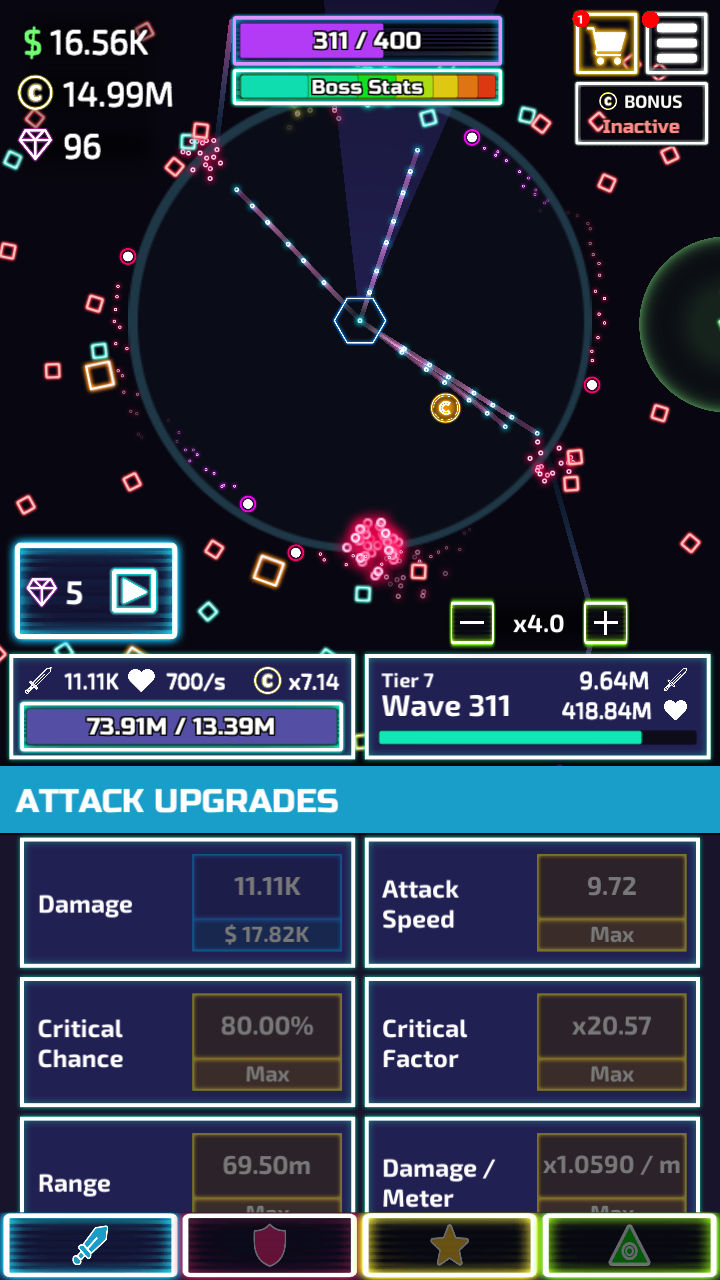B_Gem_Ad: (14, 539, 179, 639)
B_Menu_Action_Required: (638, 7, 703, 72)
B_Menu_Closed: (572, 8, 707, 75)
B_Shop_Action_Required: (568, 5, 636, 71)
B_Slot: (20, 976, 354, 1099), (364, 838, 697, 961), (365, 977, 699, 1099), (21, 837, 349, 961), (361, 1119, 697, 1210), (21, 1120, 346, 1208)
B_Slot_Button: (190, 856, 344, 952), (534, 855, 685, 950), (189, 999, 343, 1090), (534, 998, 685, 1088), (532, 1132, 691, 1209), (186, 1135, 340, 1209)
B_Slot_Label: (25, 1008, 149, 1083), (367, 1147, 508, 1210), (369, 1005, 491, 1077), (370, 865, 483, 937), (24, 879, 160, 927), (25, 1159, 131, 1206)
B_Slot_Maxed: (184, 994, 346, 1094), (532, 994, 688, 1093), (533, 855, 683, 953), (530, 1127, 691, 1209), (184, 1130, 341, 1208)
B_Slot_Price: (205, 918, 328, 947)
B_Slot_TooExpensive: (189, 858, 351, 954)
B_Slot_Value: (541, 1139, 686, 1184), (201, 1006, 328, 1044), (209, 865, 323, 905), (202, 1145, 320, 1183), (551, 1007, 662, 1045), (562, 866, 649, 905)
B_Tab_Attack: (1, 766, 720, 830)
